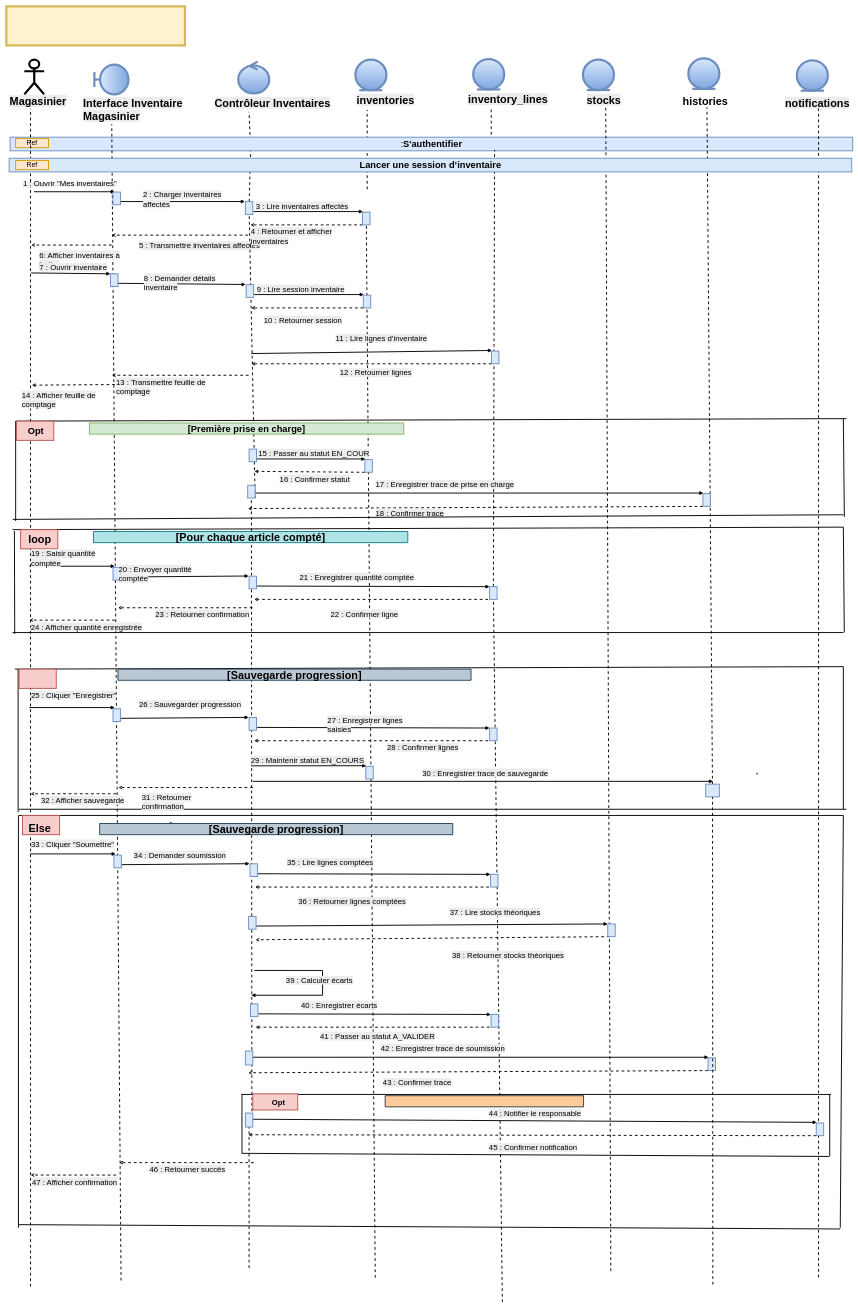
The diagram is 858 pixels wide and 1308 high, and some of its shapes have lost their labels. Here are the shapes that lost their labels. From the top down, the centre of each, then its label:
At (95,25): "sd : Ajouter un utilisateur".
At (37,679): "Alt".
At (484,1101): "[Notification activée]".
